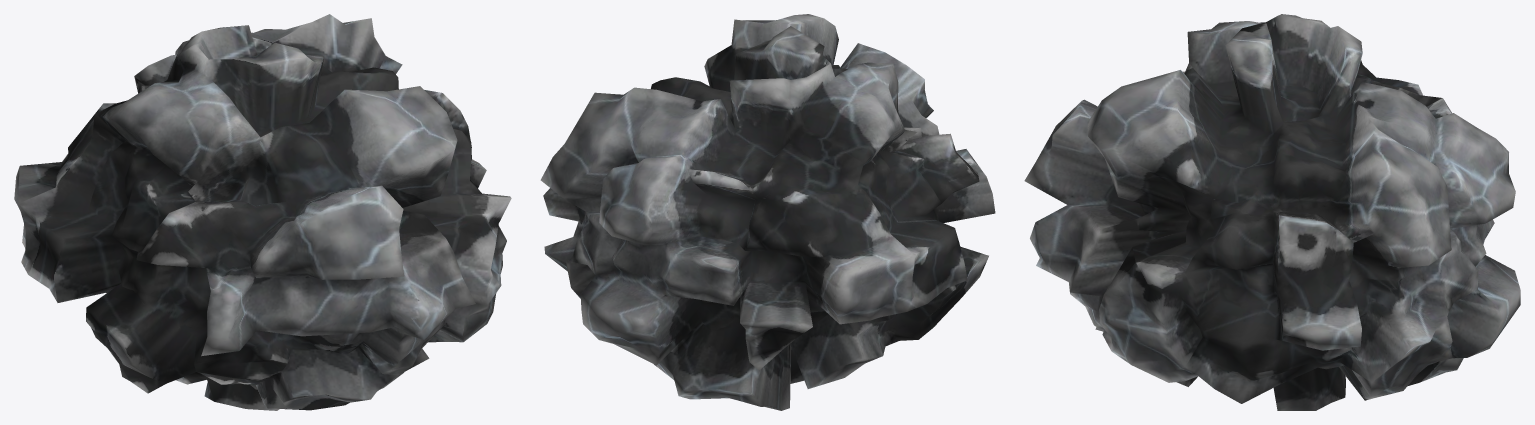
Rendered from asteroid_c.glb.
3 views of the same model, side by side, from view 1: azimuth 30°, elevation 25°; view 2: azimuth 150°, elevation 25°; view 3: azimuth 270°, elevation 25° (orthographic). The views are drawn at different scales.
Parts seen in each view (by area): view 1: Asteroid_C; view 2: Asteroid_C; view 3: Asteroid_C.
Part boxes in pixels (x1=…): Asteroid_C: x1=14, y1=14, x2=511, y2=410; Asteroid_C: x1=540, y1=14, x2=995, y2=410; Asteroid_C: x1=1024, y1=14, x2=1520, y2=410.
Size of the model in its own units: 1.9 by 1.54 by 1.9.
1 material, 1 textured.
